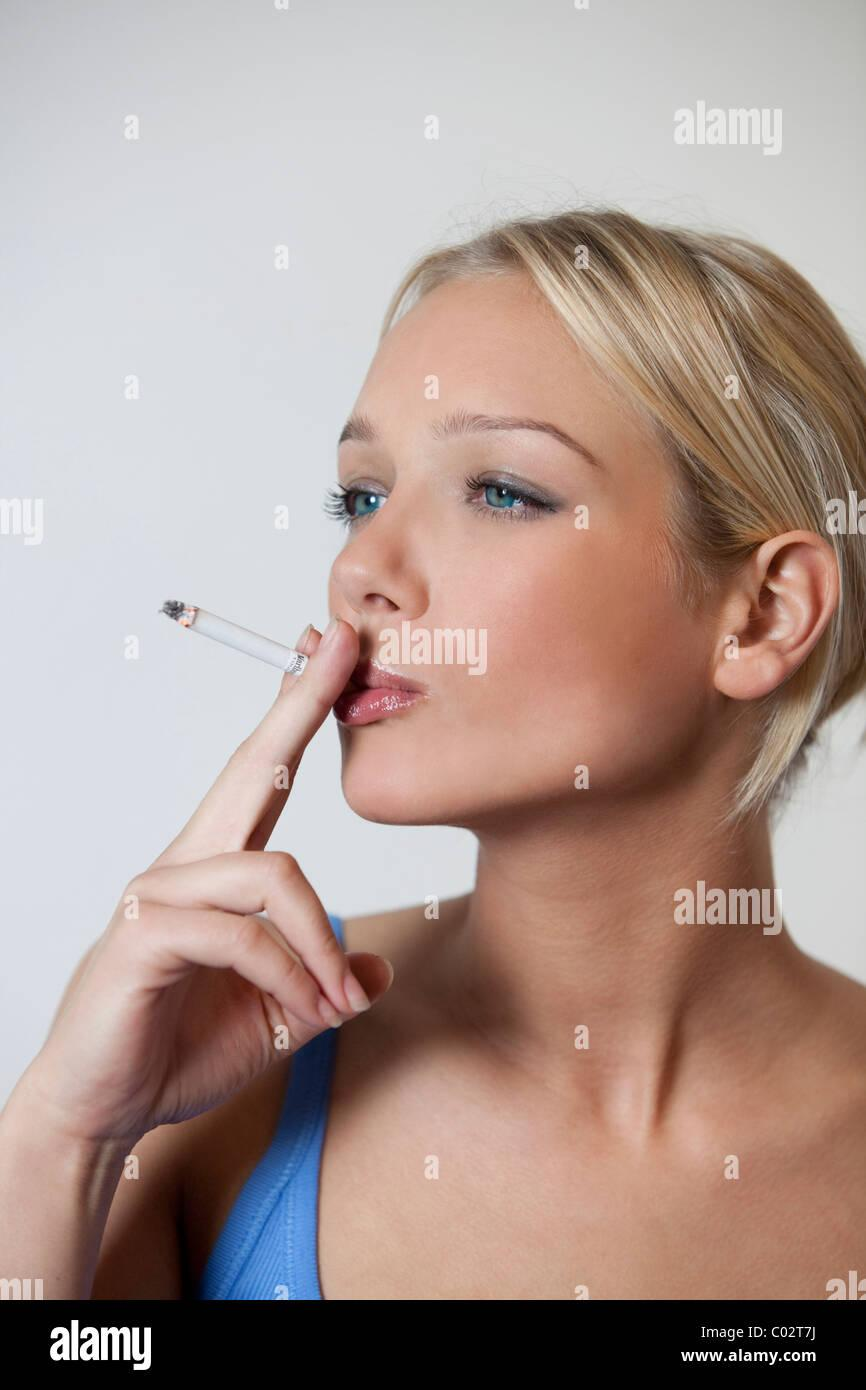cigarette: (160, 600, 307, 674)
